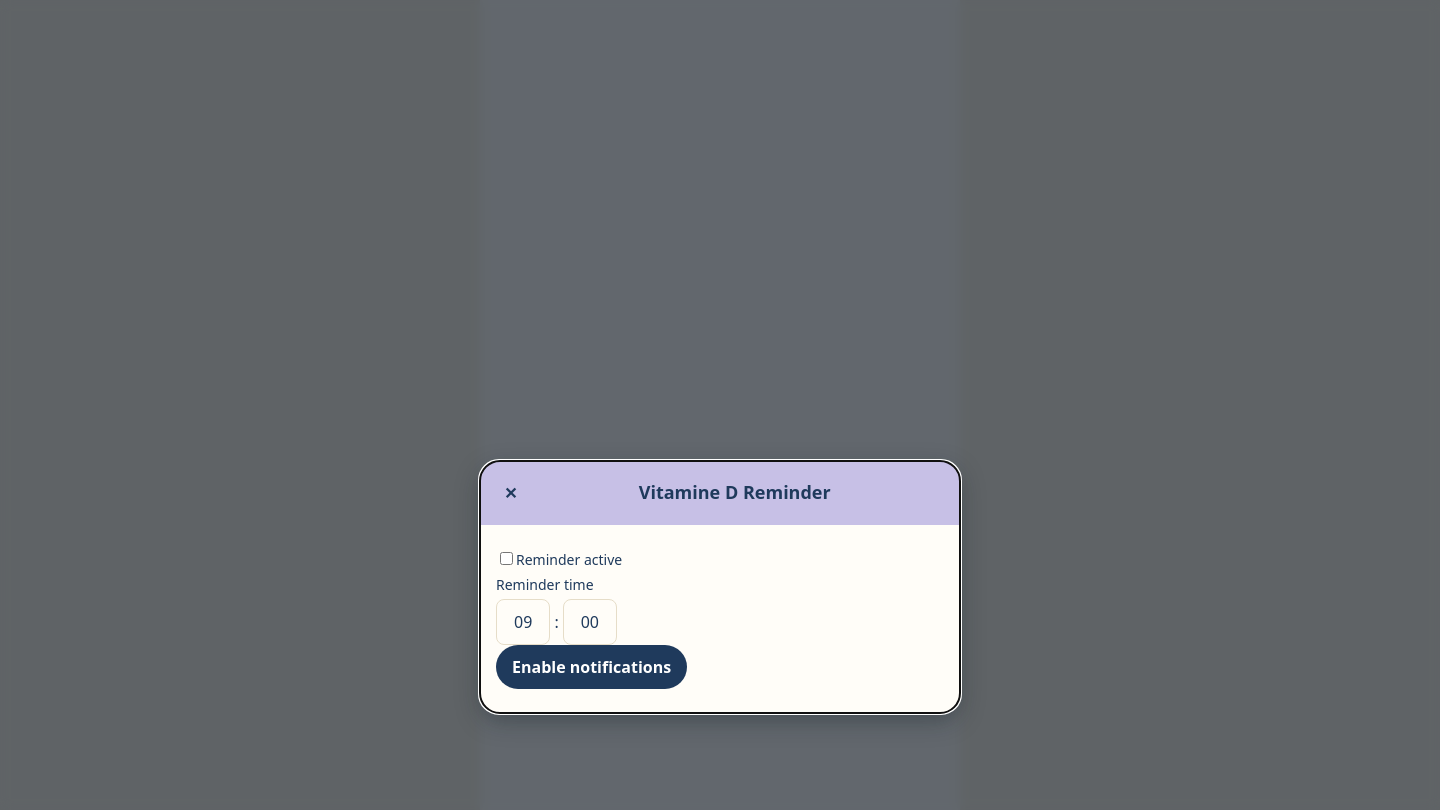
ReminderSettingsModal › shows an error when notifications cannot be enabled, and lets the user retry
Click the button "Enable notifications" at (592, 667), box 496,645 -> 687,689
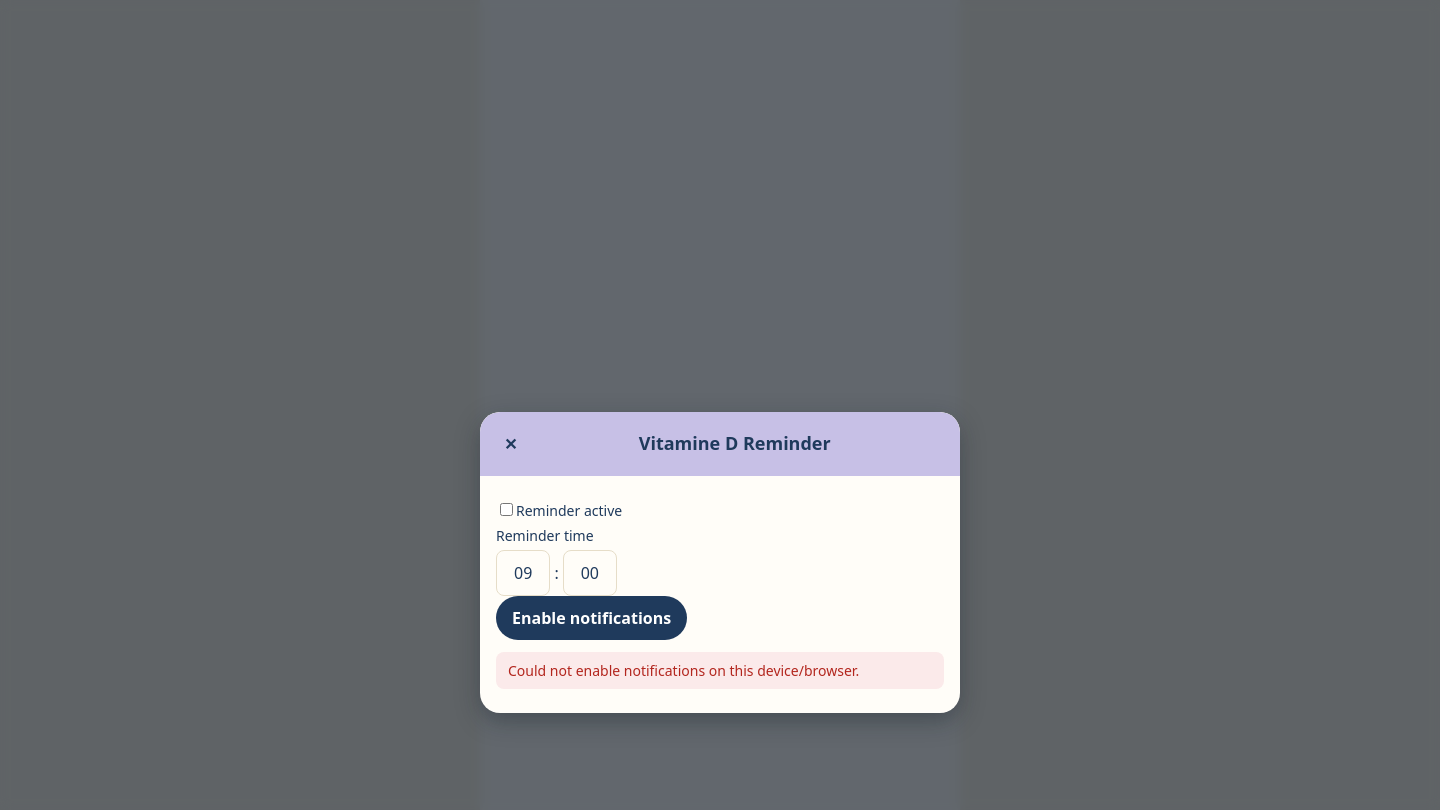
Expected: the button "Enable notifications" is enabled, 496,596 -> 687,640
Expected: the message shows "Could not enable notifications", 508,661 -> 859,680
